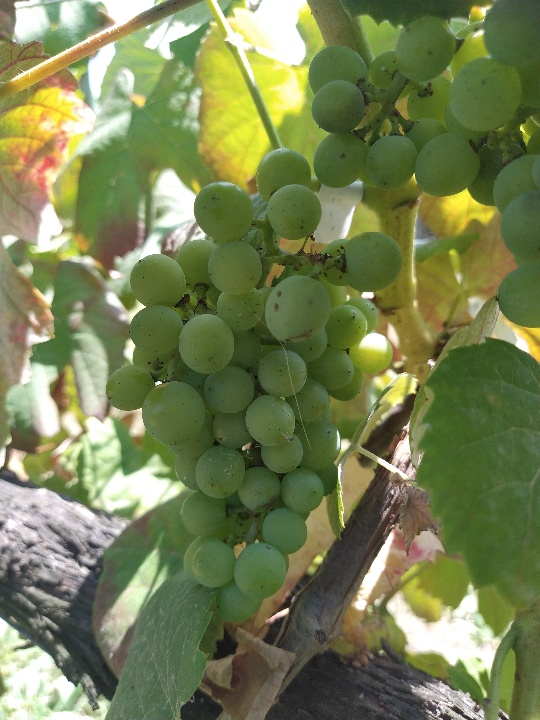grape: (106, 149, 402, 627)
